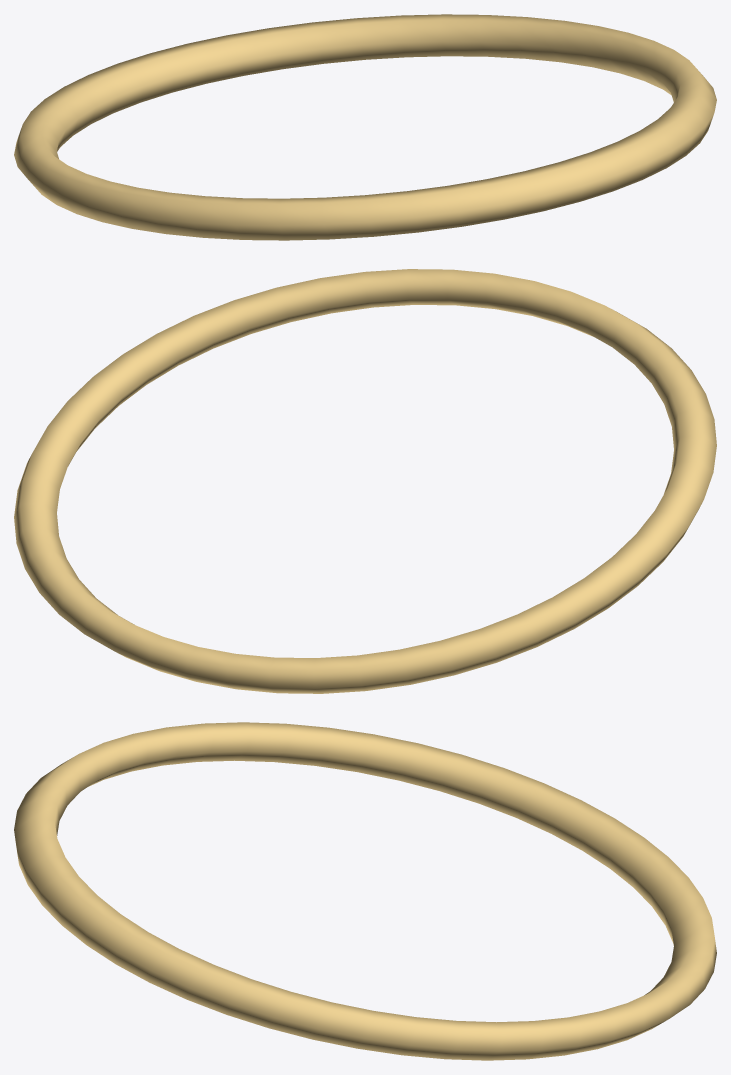
Rendered from angel_halo.glb.
3 renders of one model, top to bottom at view 1: azimuth 30°, elevation 25°; view 2: azimuth 150°, elevation 25°; view 3: azimuth 270°, elevation 25°, orthographic. The views are drawn at different scales.
Parts seen in each view (by area): view 1: Angel floating halo; view 2: Angel floating halo; view 3: Angel floating halo.
Boxes of the visible parts, x1,y1,x2,y2 form: Angel floating halo: (14,14,716,240); Angel floating halo: (14,269,716,693); Angel floating halo: (14,722,716,1060).
Bounding box in the file's own units: 0.524 × 0.126 × 0.5385.
